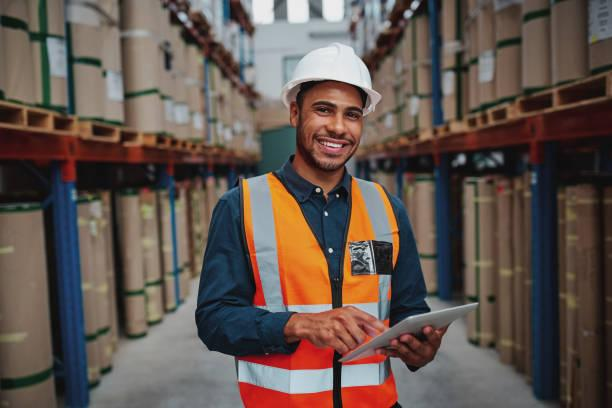capacete: (280, 40, 387, 117)
pessoa: (194, 40, 447, 408)
uniforme seguranca: (227, 171, 403, 408)
